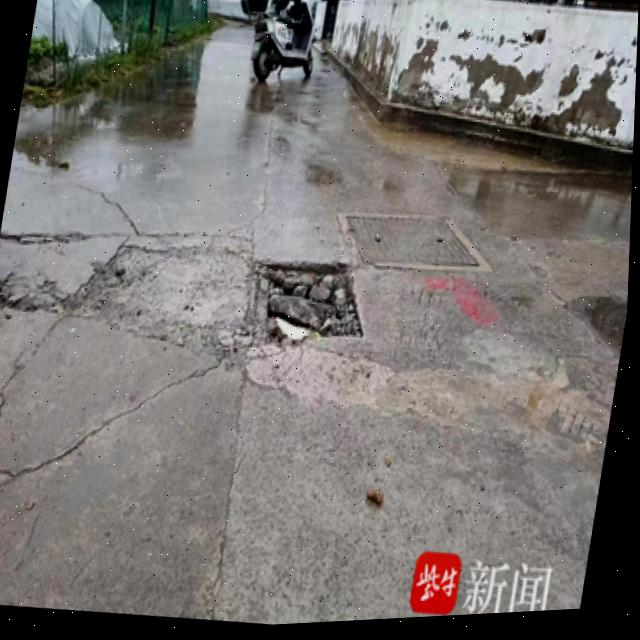manhole: (238, 243, 380, 357)
